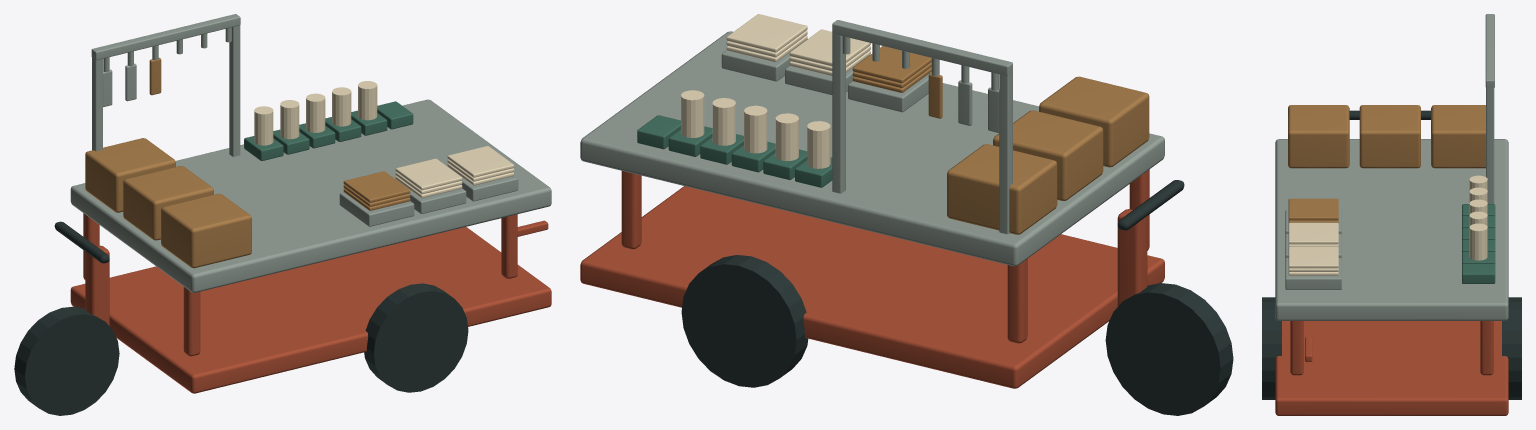
File: Cart.fbx
3 renders of one model, left to right at view 1: azimuth 30°, elevation 25°; view 2: azimuth 150°, elevation 25°; view 3: azimuth 270°, elevation 25°, orthographic. The views are drawn at different scales.
Visible parts, largest first — view 1: Cart_chassis, Cart_deck, Front_wheel, Rear_wheel, Ingredient_crate_0, Ingredient_crate_2, Ingredient_crate_1, Rack_6_hooks, Bike_neck, Rack_post.001, Pack_0_2, Pack_1_2 (+20 smaller); view 2: Cart_chassis, Cart_deck, Front_wheel, Rear_wheel.001, Ingredient_crate_2, Ingredient_crate_0, Ingredient_crate_1, Rack_6_hooks, Bike_neck, Rack_post.001, Rack_post, Pack_2_2 (+22 smaller); view 3: Cart_deck, Cart_chassis, Ingredient_crate_0, Ingredient_crate_1, Ingredient_crate_2, Rear_wheel, Rear_wheel.001, Pack_1_2, Pack_2_2, Pack_0_2, Rack_post.001, Pack_tray_2 (+6 smaller).
Part boxes in pixels (<box>): Cart_chassis: <box>70,227,551,393</box>; Cart_deck: <box>70,99,551,292</box>; Front_wheel: <box>14,306,119,415</box>; Rear_wheel: <box>364,283,468,392</box>; Ingredient_crate_0: <box>161,193,251,268</box>; Ingredient_crate_2: <box>85,138,175,212</box>; Ingredient_crate_1: <box>123,166,213,240</box>; Rack_6_hooks: <box>91,14,240,60</box>; Bike_neck: <box>85,245,109,325</box>; Rack_post.001: <box>229,25,240,156</box>; Pack_0_2: <box>343,171,410,202</box>; Pack_1_2: <box>395,158,462,190</box>; Cart_chassis: <box>580,186,1164,388</box>; Cart_deck: <box>580,31,1164,266</box>; Front_wheel: <box>1105,283,1233,415</box>; Rear_wheel.001: <box>681,255,808,387</box>; Ingredient_crate_2: <box>947,144,1057,234</box>; Ingredient_crate_0: <box>1039,76,1149,167</box>; Ingredient_crate_1: <box>993,110,1103,200</box>; Rack_6_hooks: <box>832,20,1012,75</box>; Bike_neck: <box>1117,209,1147,306</box>; Rack_post.001: <box>832,33,845,193</box>; Rack_post: <box>999,72,1012,234</box>; Pack_2_2: <box>726,14,807,52</box>; Cart_deck: <box>1275,139,1508,320</box>; Cart_chassis: <box>1275,321,1508,415</box>; Ingredient_crate_0: <box>1288,105,1349,168</box>; Ingredient_crate_1: <box>1359,105,1420,168</box>; Ingredient_crate_2: <box>1431,105,1485,168</box>; Rear_wheel: <box>1262,297,1281,399</box>; Rear_wheel.001: <box>1502,297,1521,399</box>; Pack_1_2: <box>1288,222,1338,244</box>; Pack_2_2: <box>1288,246,1338,268</box>; Pack_0_2: <box>1288,198,1338,220</box>; Rack_post.001: <box>1486,87,1494,203</box>; Pack_tray_2: <box>1285,258,1341,289</box>.
Size of what is drawn, in the model's own units: 3.17 by 1.9 by 1.56.
